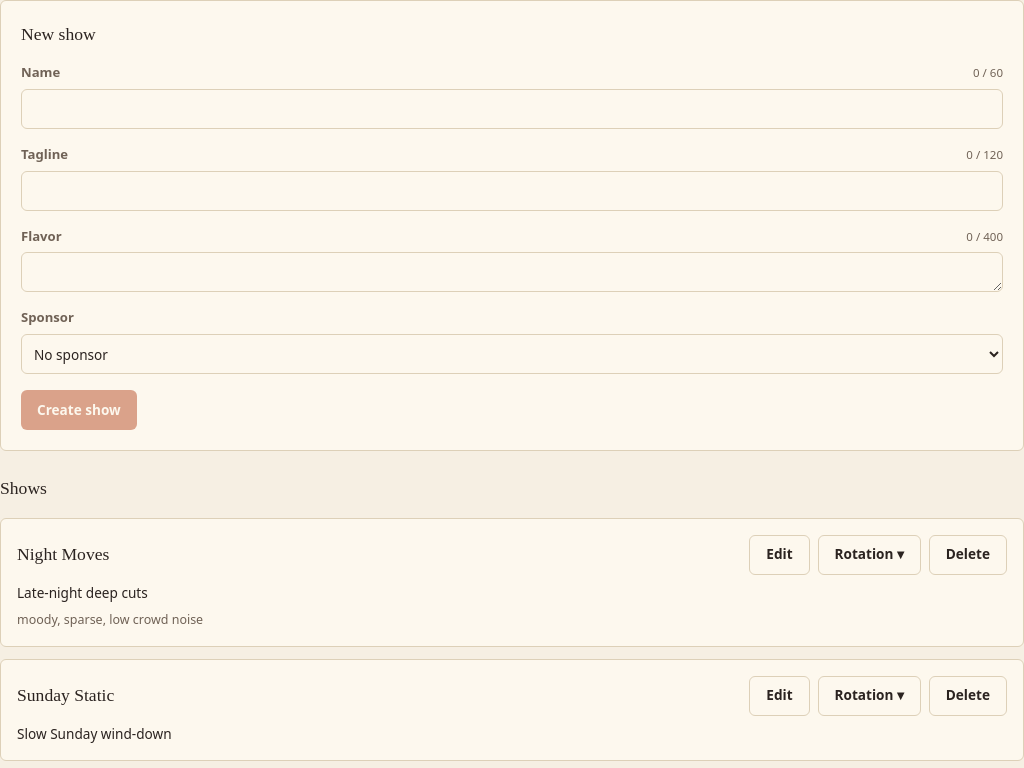
Test case: Feature: The Shows page › Scenario: guarded delete UX › surfaces the 409 refusal naming the referencing schedule blocks
Step 1. Click the button with aria-label "Delete Night Moves" → click(968, 554), box [929,534,1007,574]
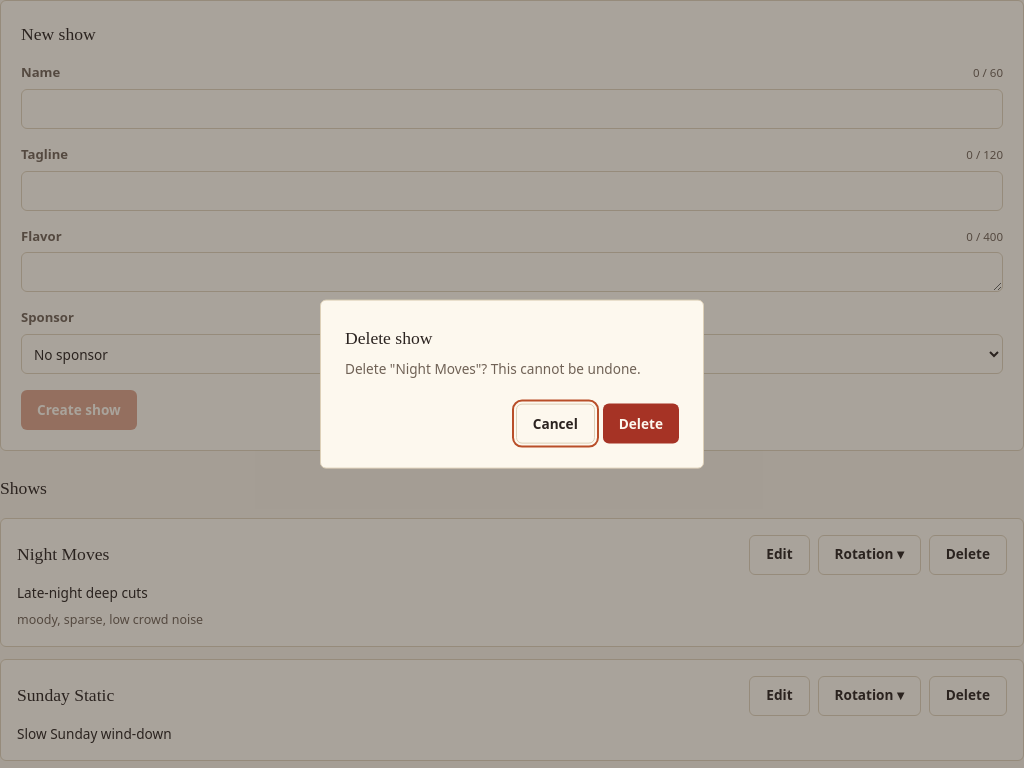
Step 2. Click the button "Delete" → click(641, 423), box [603,403,679,443]
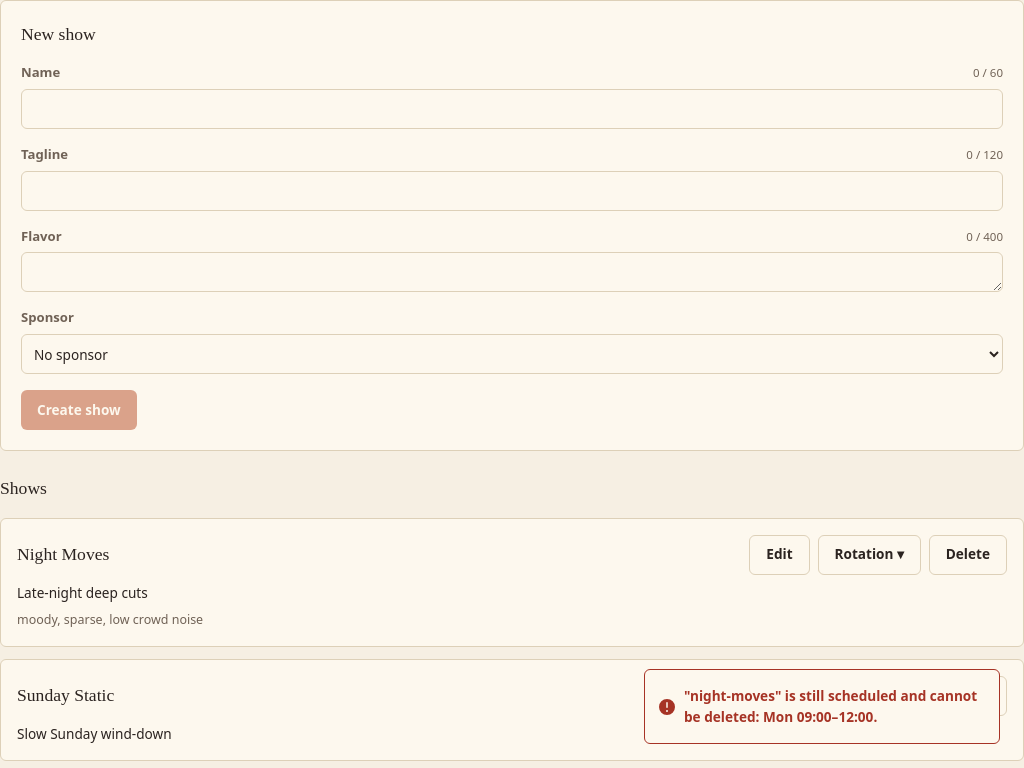
Check: the heading "Night Moves" is shown, box [17,541,109,568]
Check: the text "\"night-moves\" is still scheduled and cannot be deleted: Mon 09:00–12:00." is shown, box [684,686,983,727]
